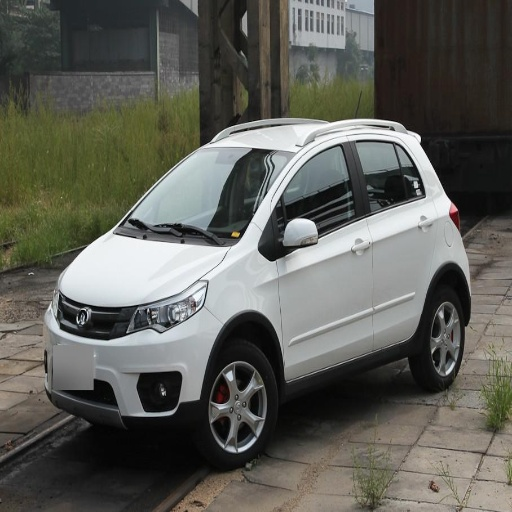front_bumper: (44, 291, 221, 429)
front_glass: (114, 144, 290, 245)
front_left_door: (269, 137, 373, 378)
